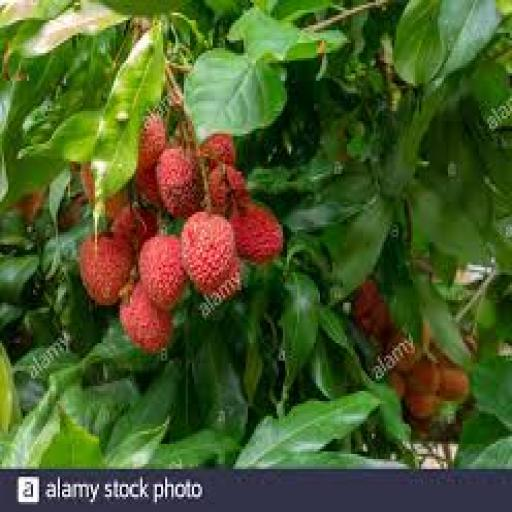lychee: (182, 212, 237, 295), (81, 235, 134, 305), (120, 283, 173, 353), (139, 235, 187, 310), (157, 147, 202, 216), (232, 205, 282, 264), (112, 205, 158, 249), (209, 164, 249, 214), (139, 114, 167, 171), (209, 260, 241, 302), (438, 366, 470, 401), (201, 134, 235, 166), (407, 359, 439, 393), (135, 167, 161, 206), (405, 394, 439, 418), (81, 164, 94, 204)
